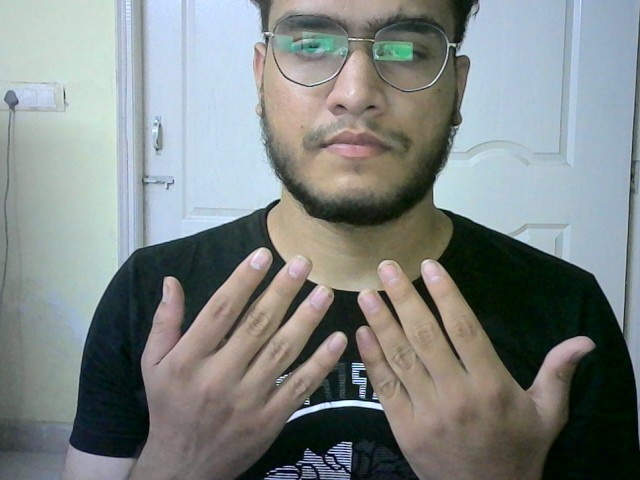Thank You: (137, 245, 602, 465)
